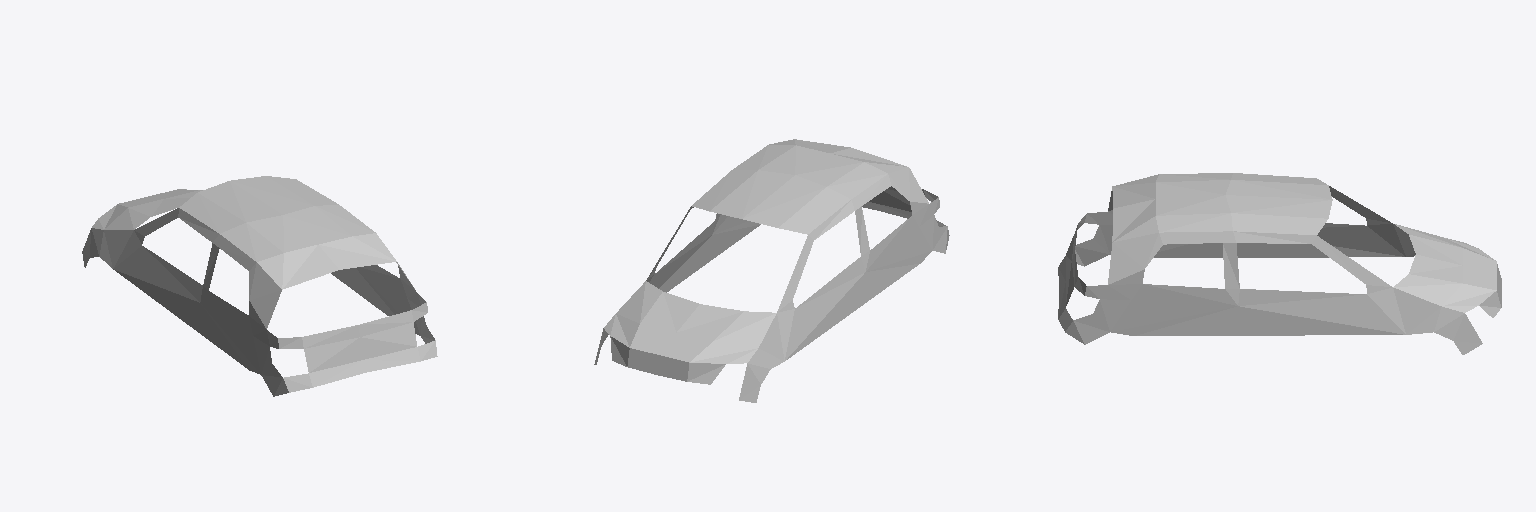
File: CarBody.obj
The picture shows the model from 3 angles: view 1: azimuth 30°, elevation 25°; view 2: azimuth 150°, elevation 25°; view 3: azimuth 270°, elevation 25°; orthographic projection.
Visible parts, largest first — view 1: Car_Carrosserie; view 2: Car_Carrosserie; view 3: Car_Carrosserie.
Boxes of the visible parts, <box> form: Car_Carrosserie: <box>82,176,437,396</box>; Car_Carrosserie: <box>594,139,949,402</box>; Car_Carrosserie: <box>1058,173,1501,354</box>.
Size of the model in its own units: 1.93 by 1.4 by 4.62.